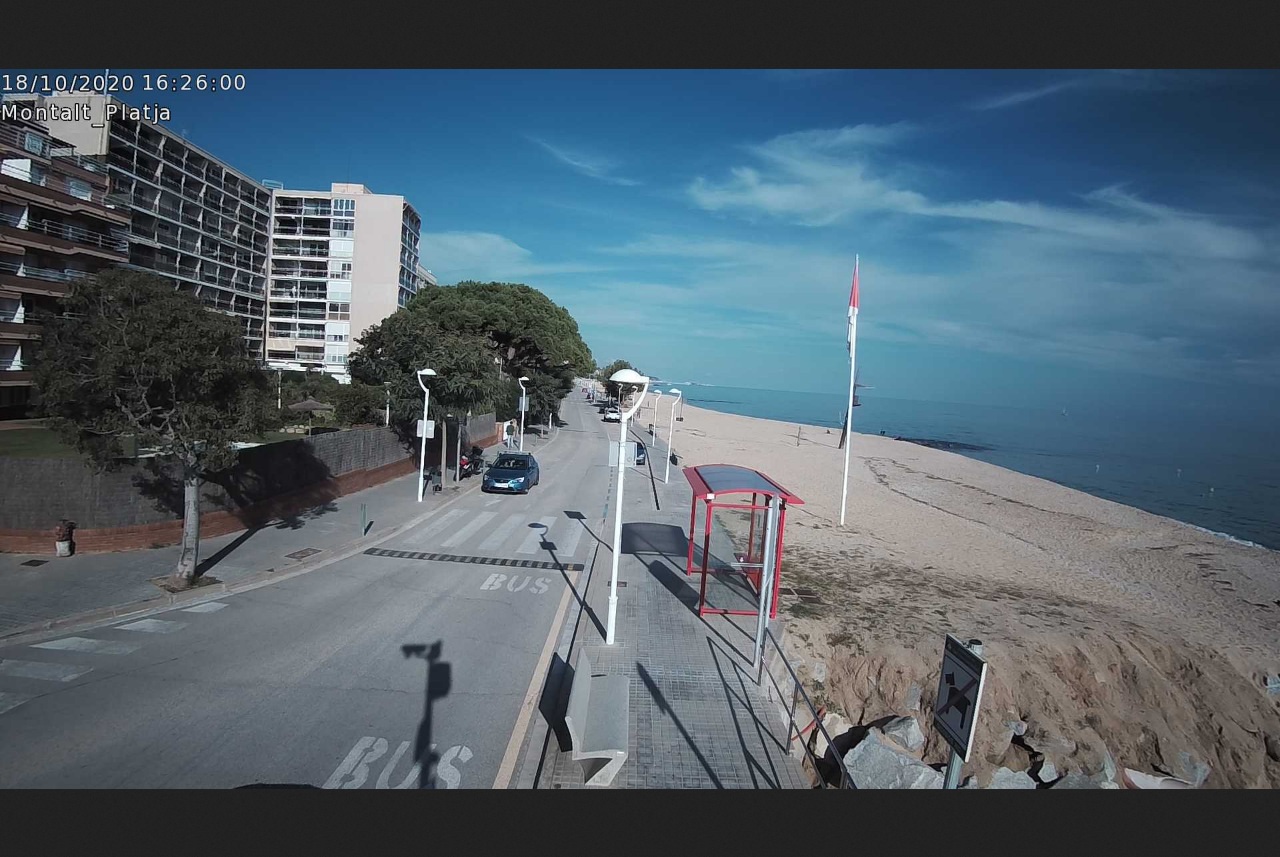no: (846, 265, 861, 353)
